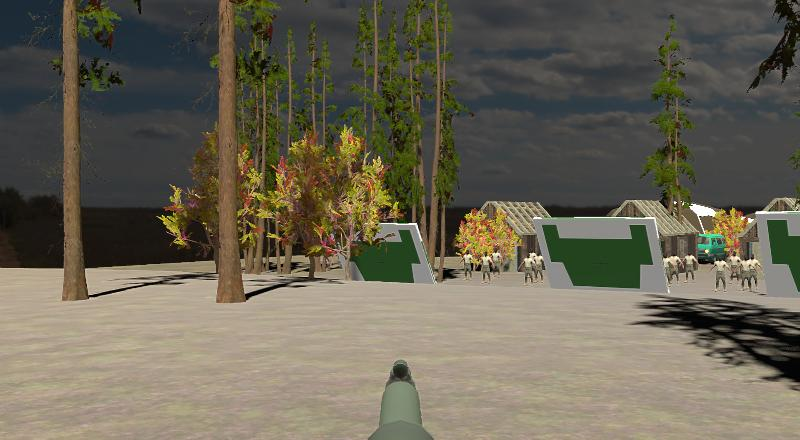Human: (740, 254, 761, 292), (709, 255, 730, 292), (519, 251, 536, 287), (664, 250, 682, 283), (682, 251, 699, 281), (479, 251, 494, 284), (460, 249, 475, 281), (491, 245, 505, 276), (534, 251, 547, 283)
car: (694, 233, 727, 264)
